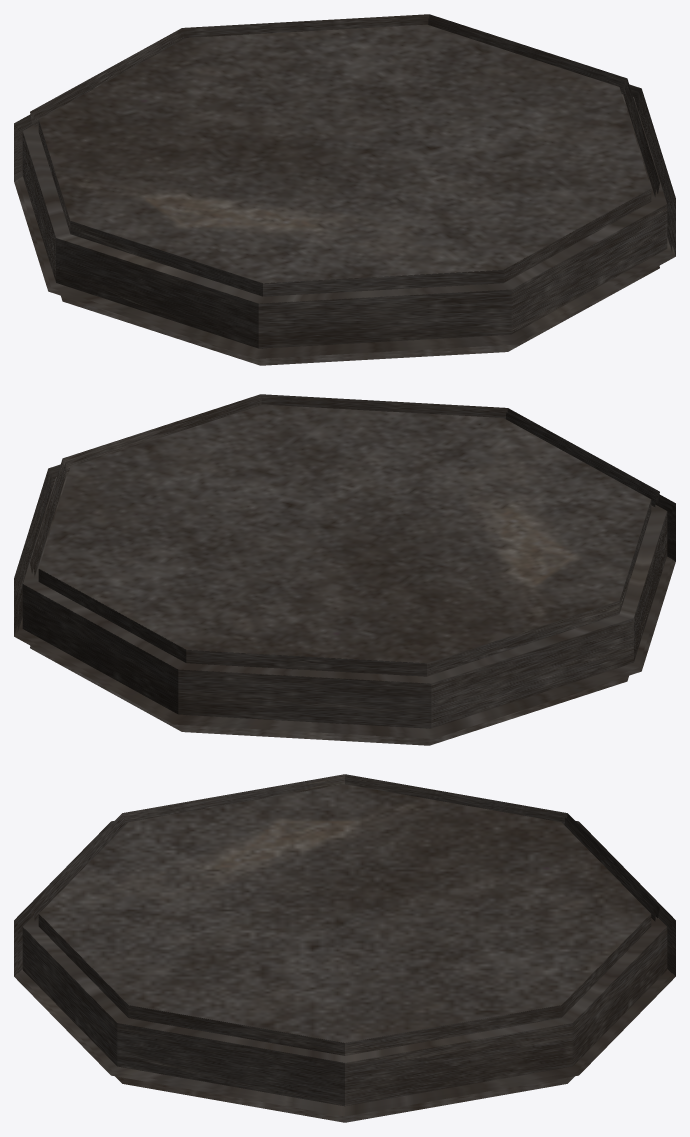
File: Platform.fbx
3 views of the same model, one above another, from view 1: azimuth 30°, elevation 25°; view 2: azimuth 150°, elevation 25°; view 3: azimuth 270°, elevation 25° (orthographic). The views are drawn at different scales.
Parts seen in each view (by area): view 1: PlatformB; view 2: PlatformB; view 3: PlatformB.
Part boxes in pixels (bbox=[...]): PlatformB: bbox=[14, 14, 675, 365]; PlatformB: bbox=[14, 394, 675, 745]; PlatformB: bbox=[14, 774, 675, 1122].
Size of the model in its own units: 2.92 by 0.4012 by 2.92.
1 material, 1 textured.
